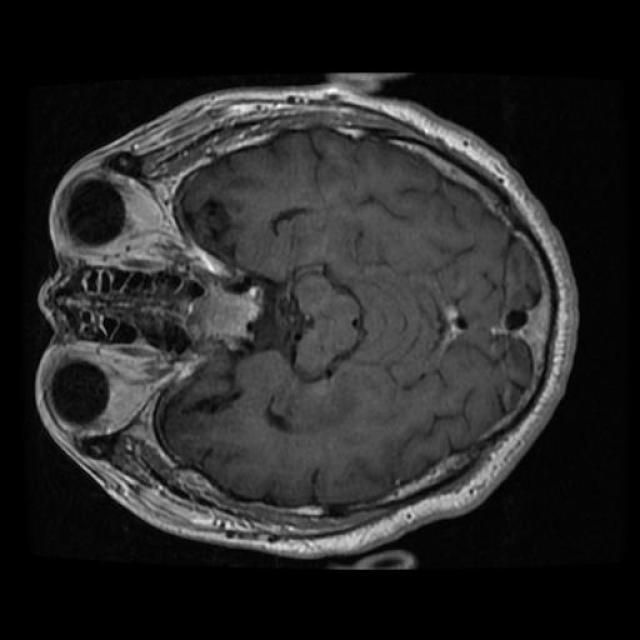Pituitary: (186, 273, 264, 350)
